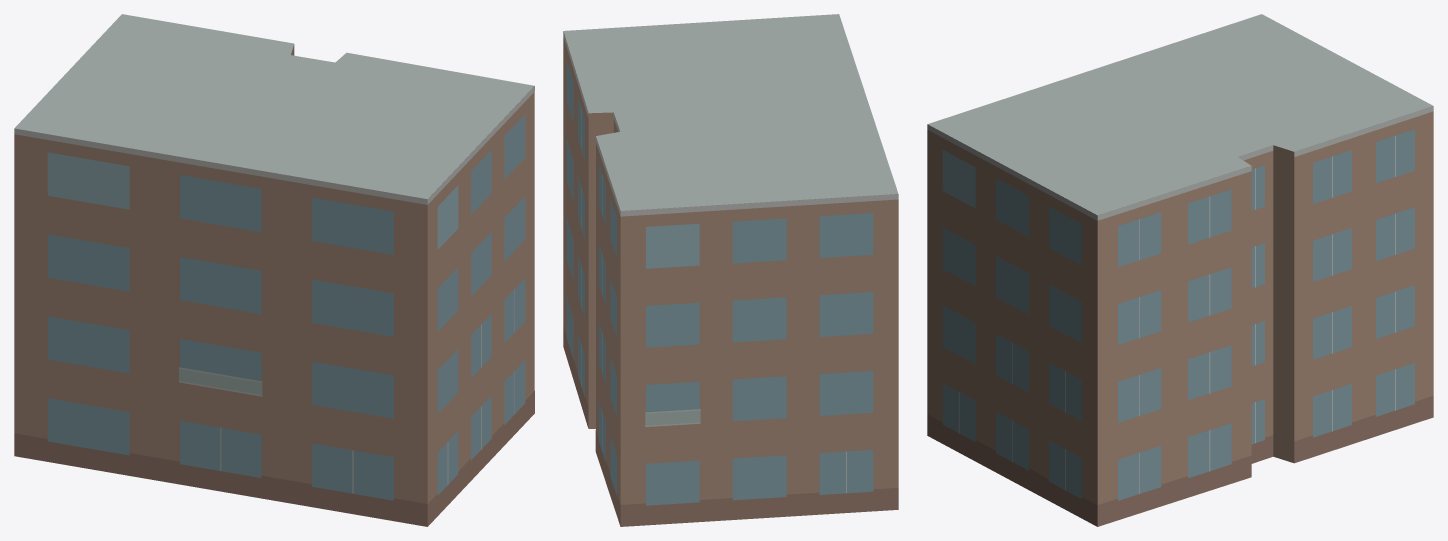
File: survey-upis-32747037.glb
3 views of the same model, side by side, from view 1: azimuth 30°, elevation 25°; view 2: azimuth 150°, elevation 25°; view 3: azimuth 270°, elevation 25° (orthographic). The views are drawn at different scales.
Parts seen in each view (by area): view 1: survey-upis-32747037.tmp; view 2: survey-upis-32747037.tmp; view 3: survey-upis-32747037.tmp.
Part boxes in pixels (x1,y1,x2,y2): survey-upis-32747037.tmp: (14, 14, 534, 526); survey-upis-32747037.tmp: (563, 14, 898, 526); survey-upis-32747037.tmp: (927, 14, 1433, 526).
Size of the model in its own units: 19.28 by 13.9 by 20.47.
